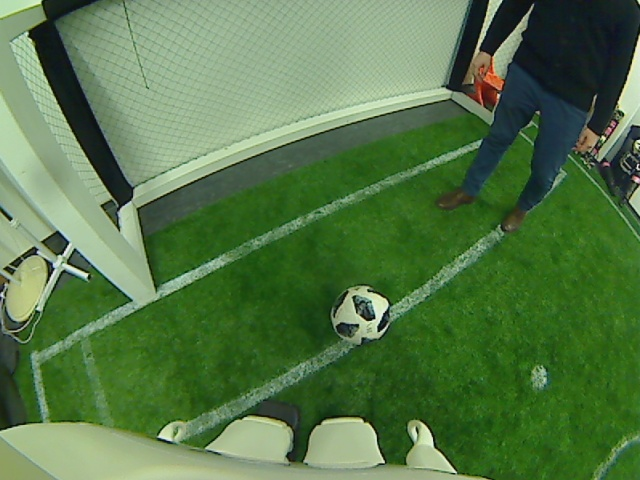ball: (327, 281, 392, 344)
